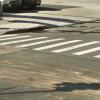Crosswalk: (6, 27, 98, 65)
